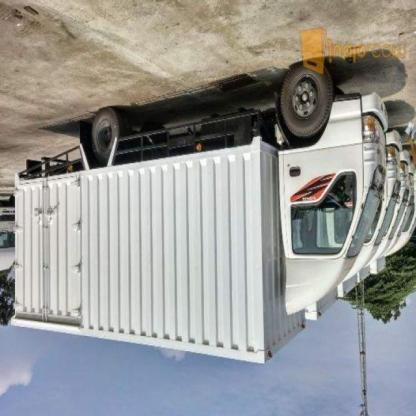truck: (8, 60, 391, 367)
